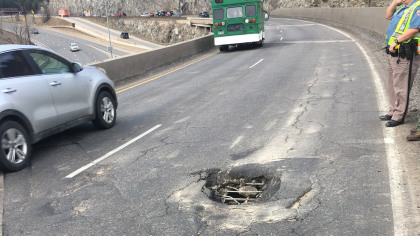pothole: (196, 158, 287, 208)
